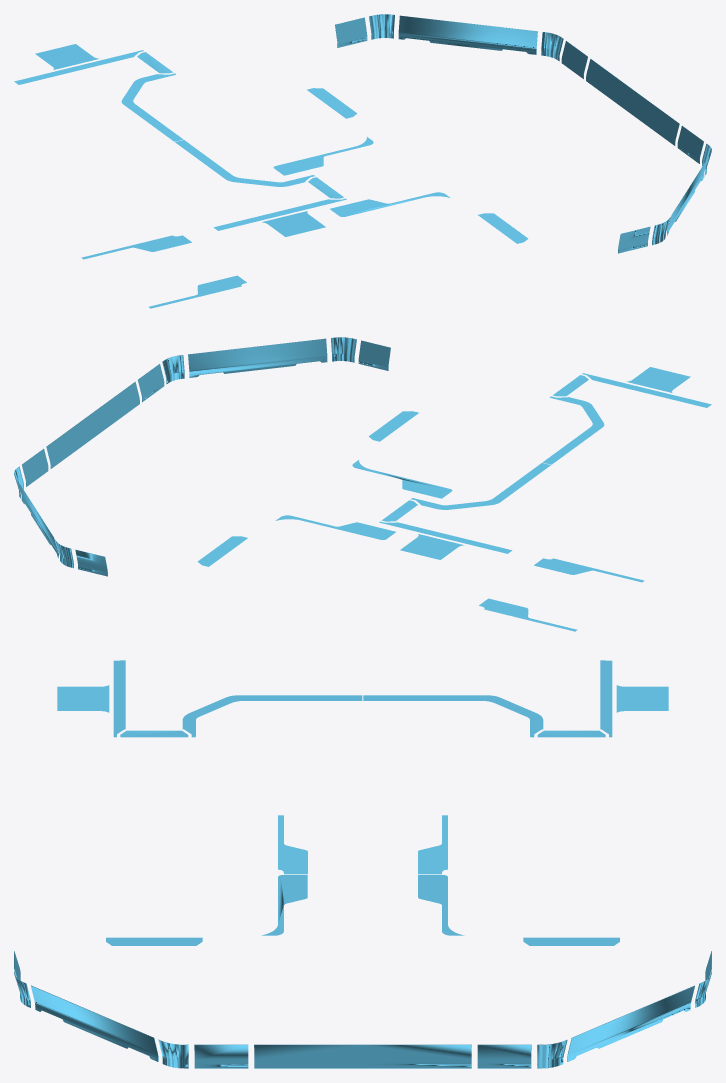
Rendered from orison_arc_ext_floor_001_glass_a.glb.
3 renders of one model, top to bottom at view 1: azimuth 30°, elevation 25°; view 2: azimuth 150°, elevation 25°; view 3: azimuth 270°, elevation 25°, orthographic. The views are drawn at different scales.
Size of the model in its own units: 24.55 by 5.73 by 23.41.
